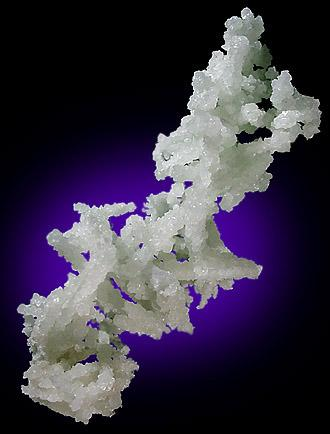prehnite: (17, 8, 322, 425)
